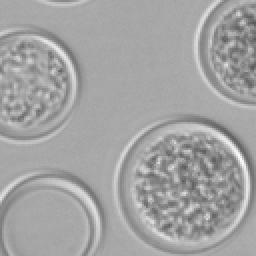picoshell: (112, 116, 252, 252), (0, 26, 78, 142), (0, 170, 102, 254), (194, 0, 254, 108), (36, 0, 88, 6)
